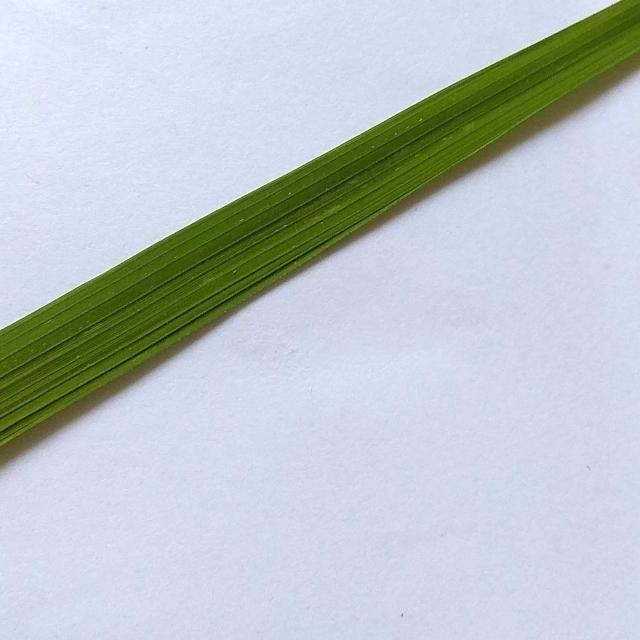Rice_Healthy: (0, 0, 640, 445)
